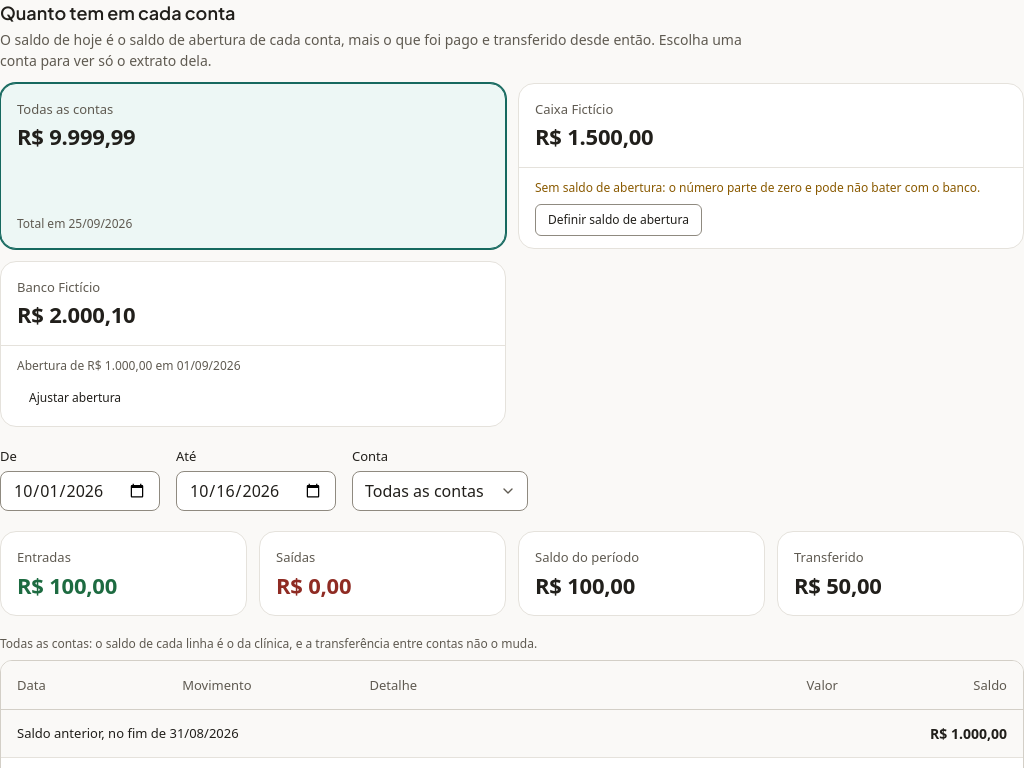
Test: Definir o saldo de abertura › deve salvar a abertura negativa com a versão lida e refazer os saldos e o extrato
Expected: the column heading "Saldo anterior, no fim de 31/08/2026" is shown, x1=1 y1=710 x2=854 y2=758
Click the button with aria-label "Definir saldo de abertura de Caixa Fictício" at (618, 220), box x1=535 y1=204 x2=702 y2=236
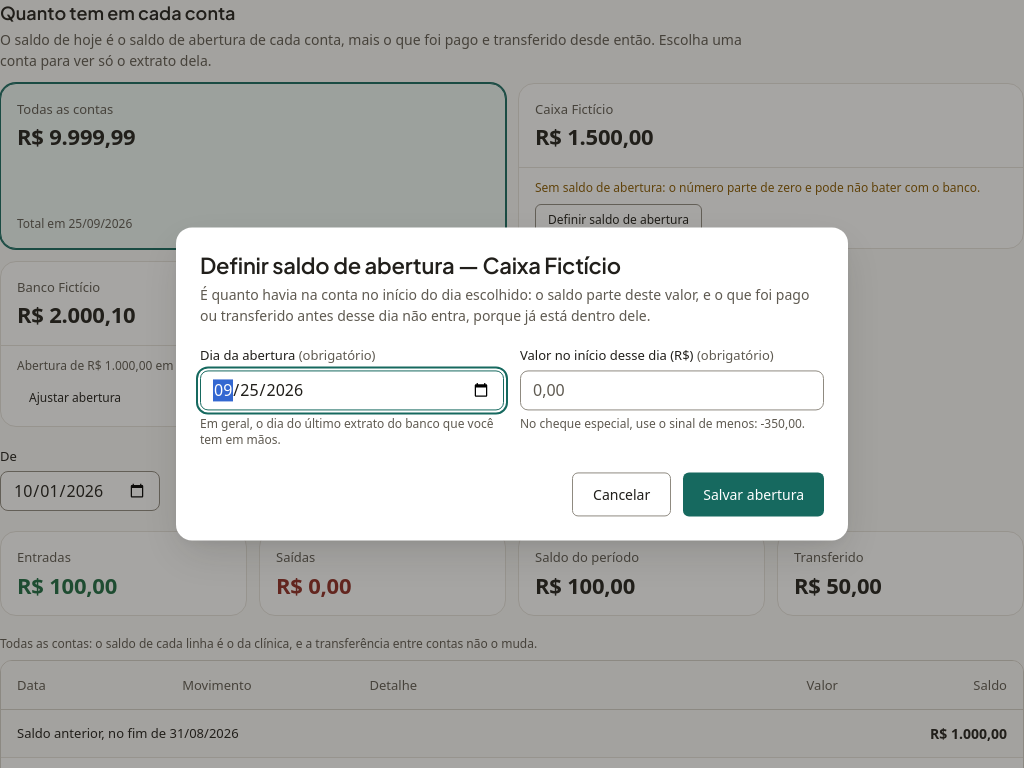
Expected: the text "É quanto havia na conta no início do dia escolhido: o saldo parte deste valor, e o que foi pago ou transferido antes des" is shown, x1=200 y1=285 x2=809 y2=325
Expected: the date field labelled "Dia da abertura (obrigatório)" holds "2026-09-25"
Type "2026-10-01" into the date field labelled "Dia da abertura (obrigatório)" at (352, 390), box x1=200 y1=370 x2=504 y2=410
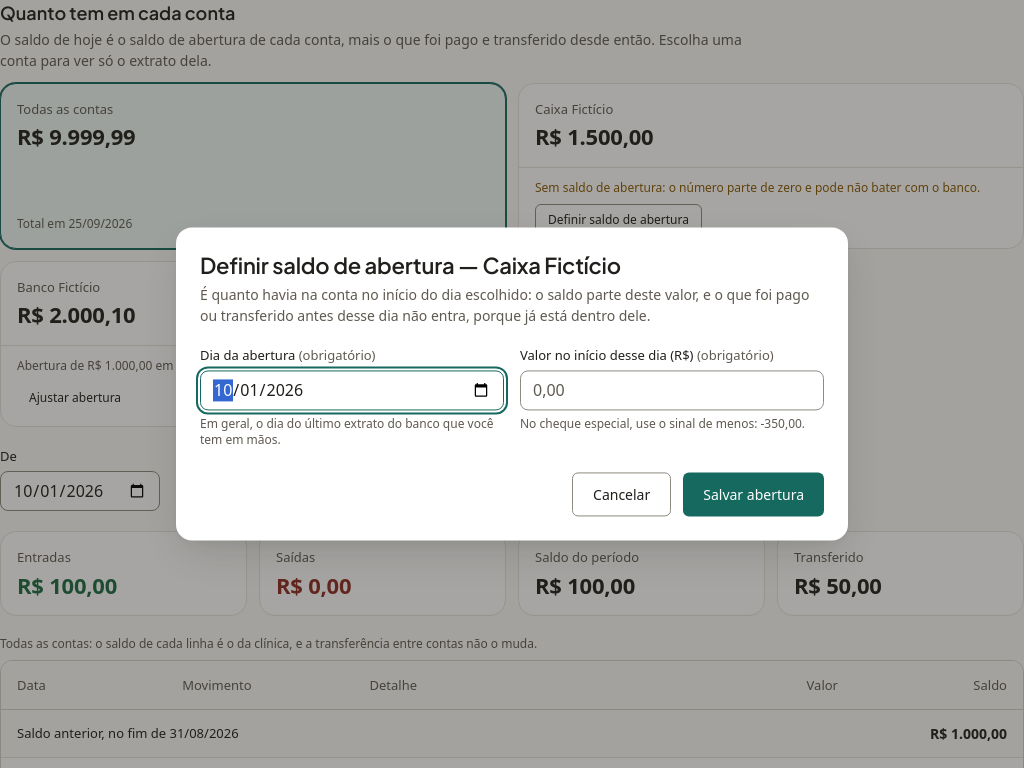
Type "-1.350,50" into the field labelled "Valor no início desse dia (R$) (obrigatório)" at (672, 390), box x1=520 y1=370 x2=824 y2=410
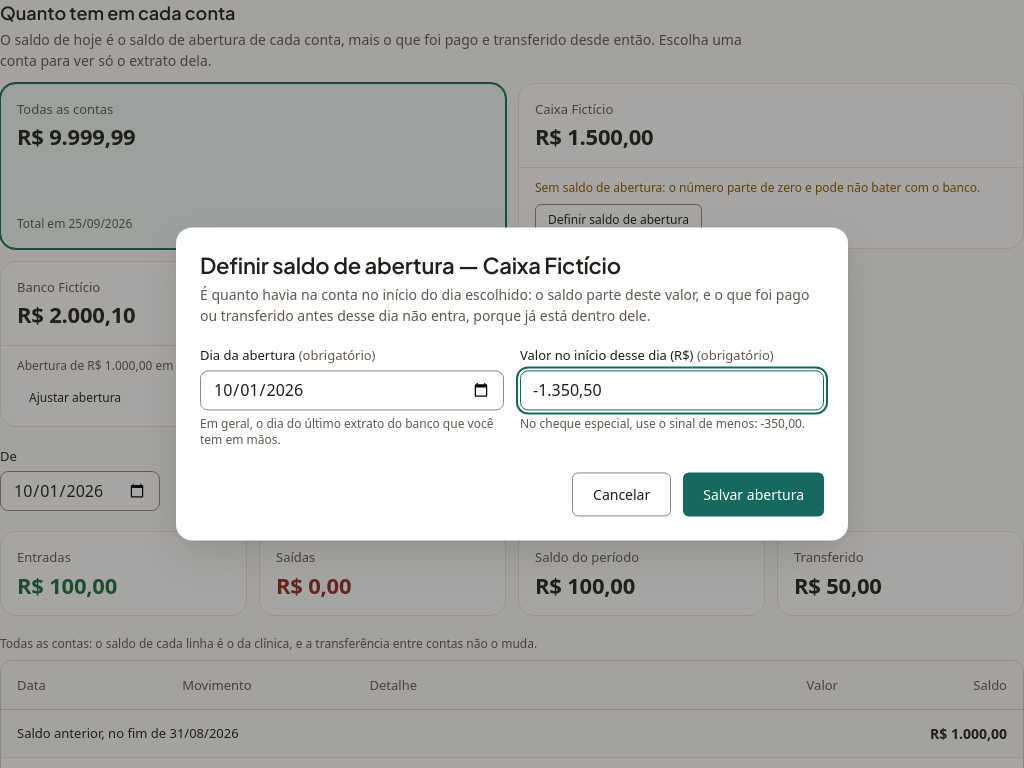
Click the button "Salvar abertura" at (754, 495), box x1=683 y1=473 x2=824 y2=517
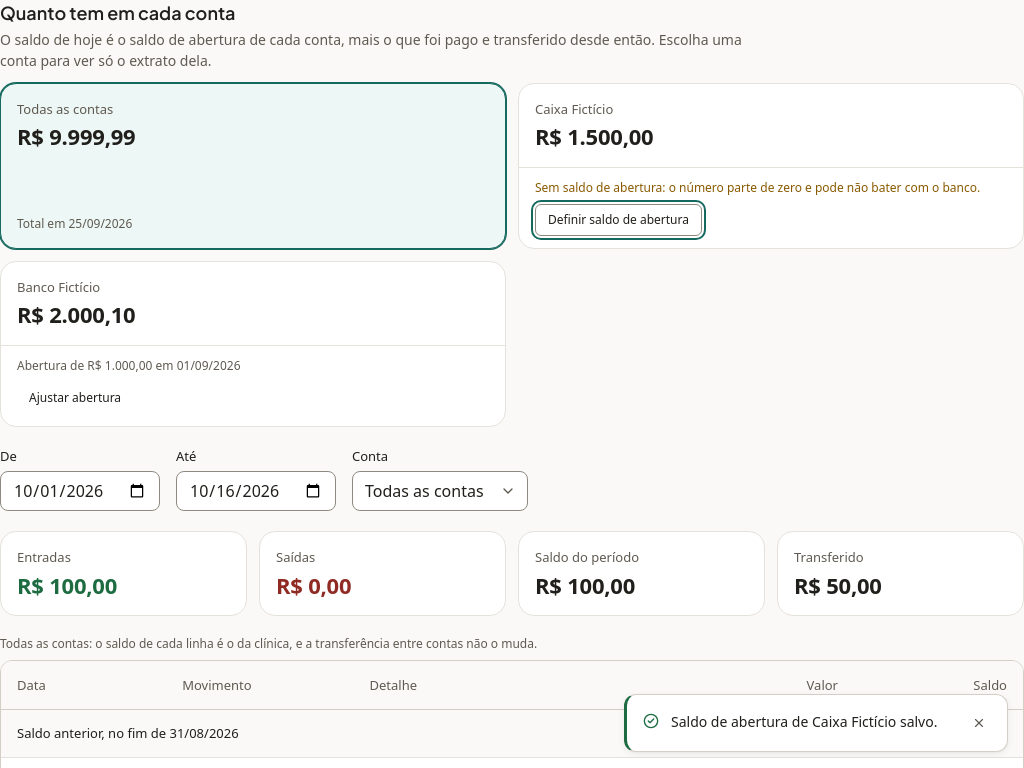
Expected: the dialog is gone
Expected: the text "Saldo de abertura de Caixa Fictício salvo." is shown, x1=671 y1=711 x2=955 y2=732
